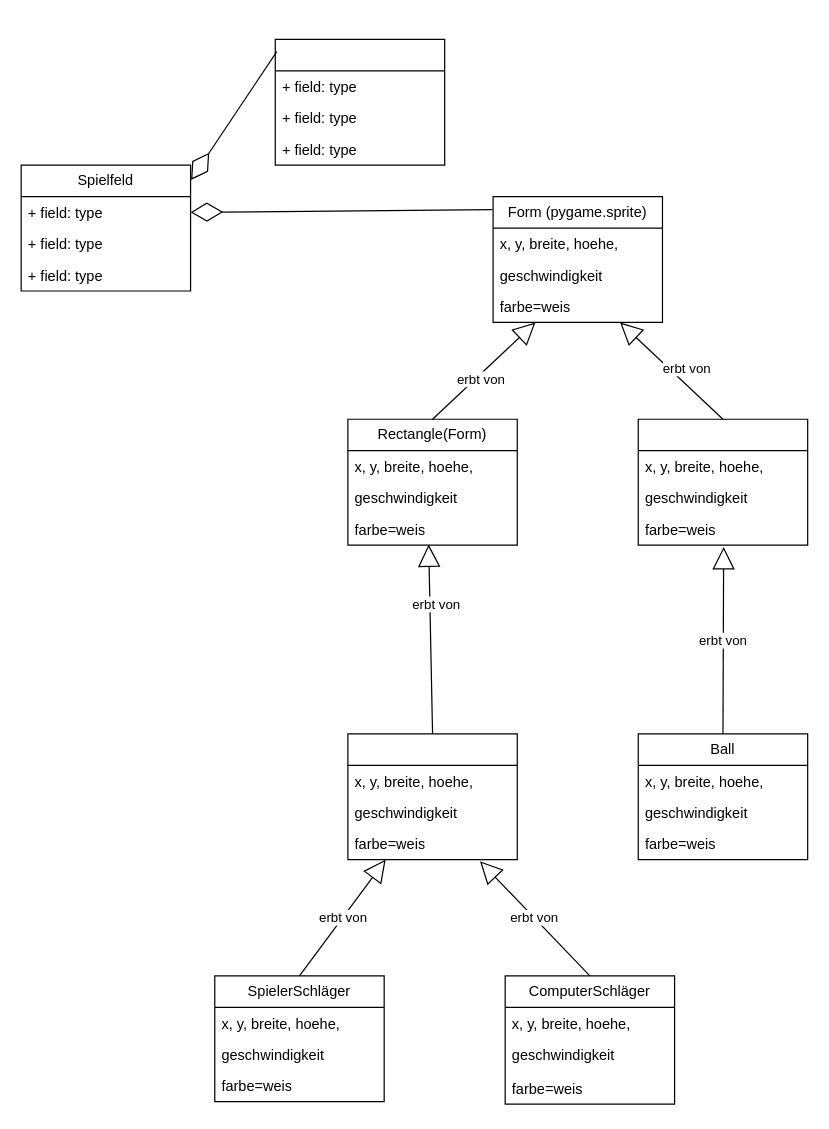
Some shapes in this 829 by 1129 pixel diagram are drawn without their labels. The shapes that lost their labels are listed below. From the top down, each one's box as (x1, y1, x2, y2) in pixels, then its label:
(274, 38, 445, 165): Punkteanzeige
(637, 418, 808, 545): Circle(Form)
(347, 733, 517, 860): Schläger
